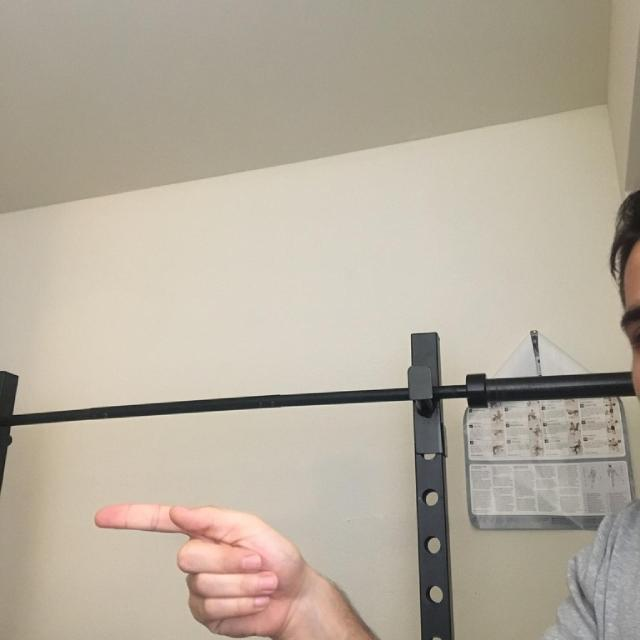G: (52, 465, 377, 640)
